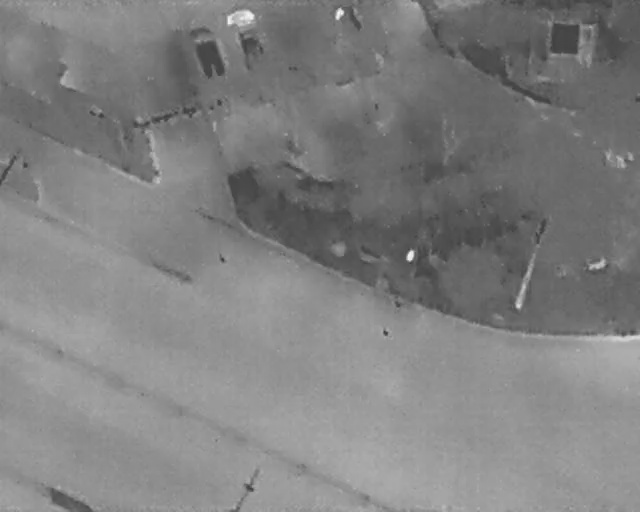Car: (222, 5, 276, 76), (183, 19, 232, 87)
Person: (334, 6, 346, 23)
